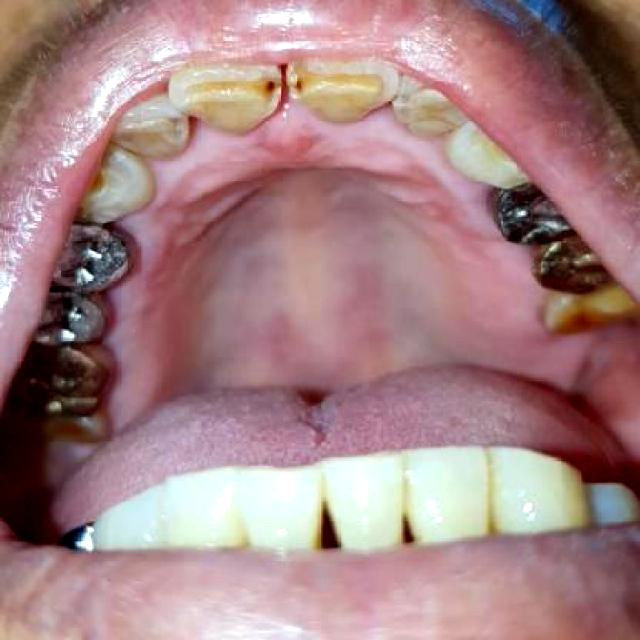Plaque: (136, 110, 198, 147), (240, 66, 292, 105)
